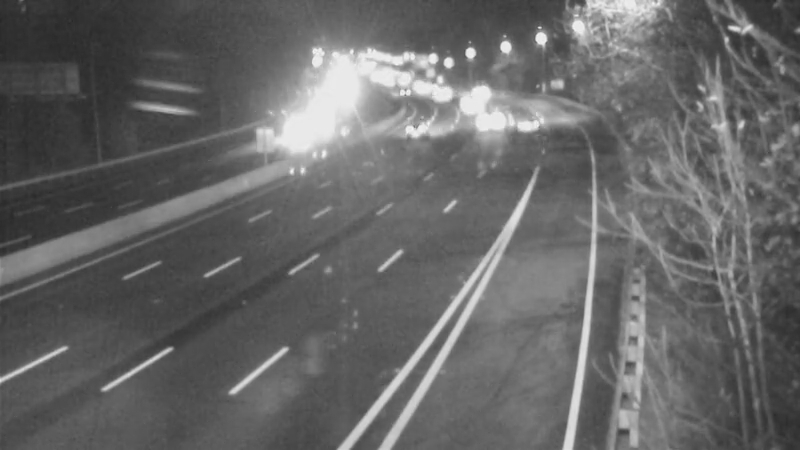vehicle: (382, 68, 432, 118), (450, 83, 500, 133), (459, 95, 509, 145), (497, 97, 547, 147), (388, 100, 438, 150), (279, 104, 329, 154)
